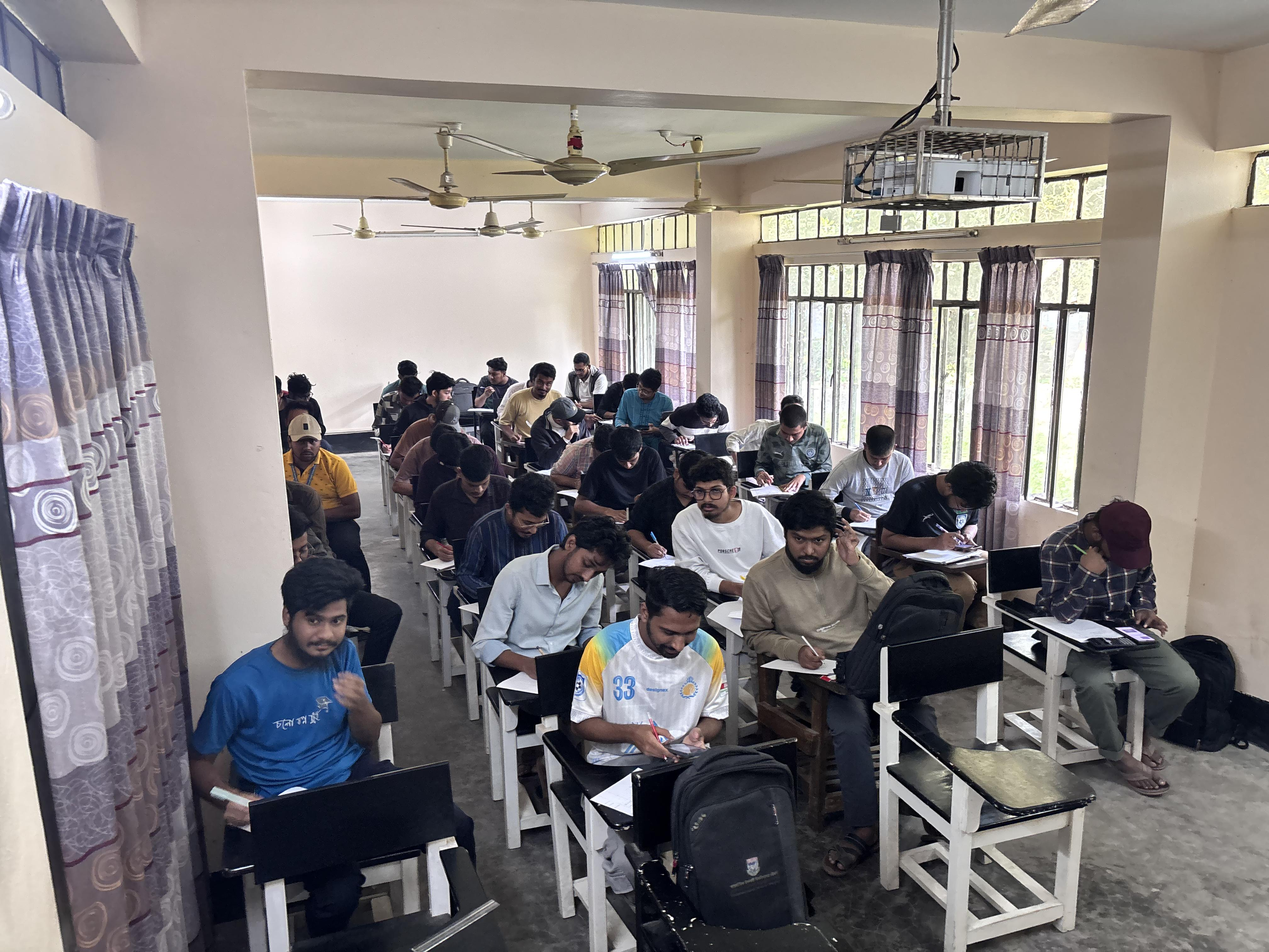copying: (412, 369, 463, 412)
hidden_communication: (617, 366, 676, 433)
no_cheating: (200, 561, 411, 832), (747, 505, 900, 689), (502, 536, 619, 699), (415, 450, 511, 565), (464, 475, 551, 575), (754, 380, 831, 491), (828, 410, 902, 516), (578, 431, 668, 506), (286, 420, 357, 511), (675, 388, 750, 455), (505, 361, 569, 434), (559, 349, 615, 408), (419, 426, 476, 467)
side_talking: (478, 355, 517, 411)
suspicious_moving: (659, 464, 790, 574)
using_phone: (557, 580, 735, 798), (1021, 494, 1172, 697), (880, 454, 999, 583)
